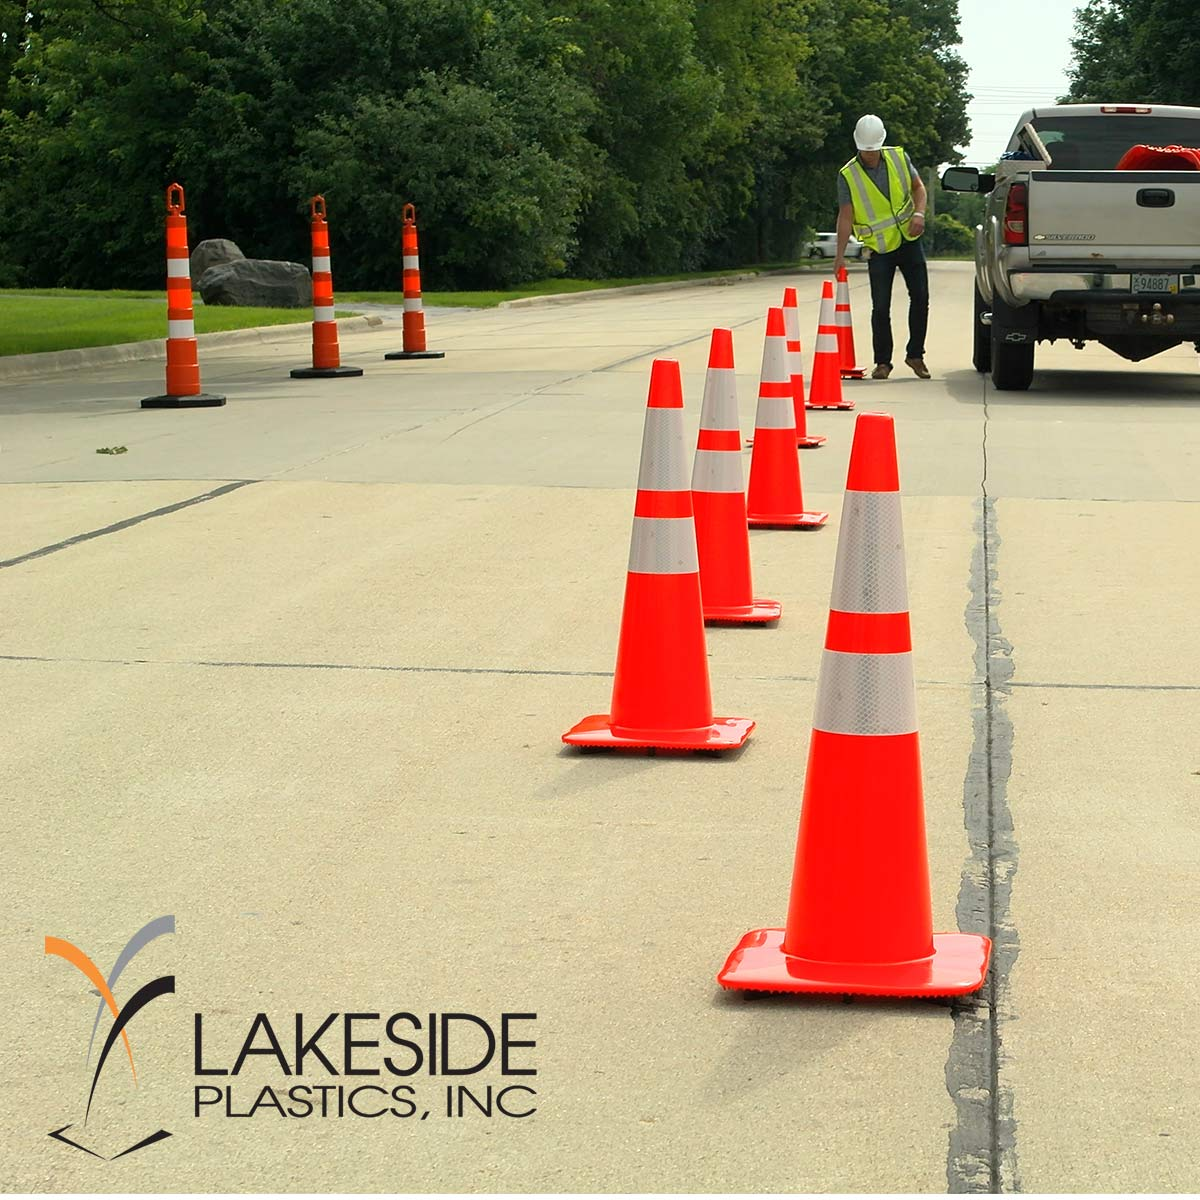cone: (716, 418, 992, 1010), (565, 359, 757, 763), (667, 330, 776, 626), (730, 310, 829, 535), (758, 285, 821, 431), (795, 279, 853, 416), (811, 266, 870, 381)
